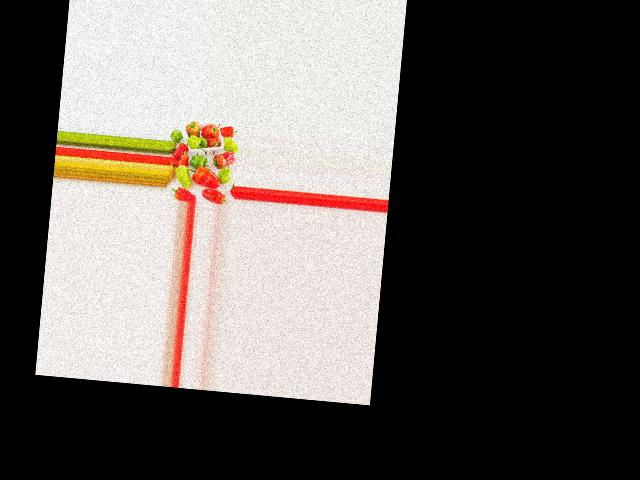bell_pepper: (169, 184, 194, 202)
